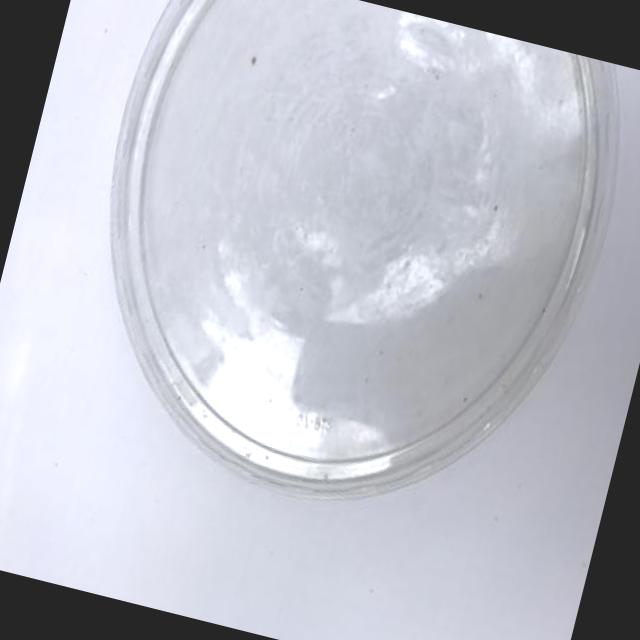Trash: (36, 0, 640, 560)
